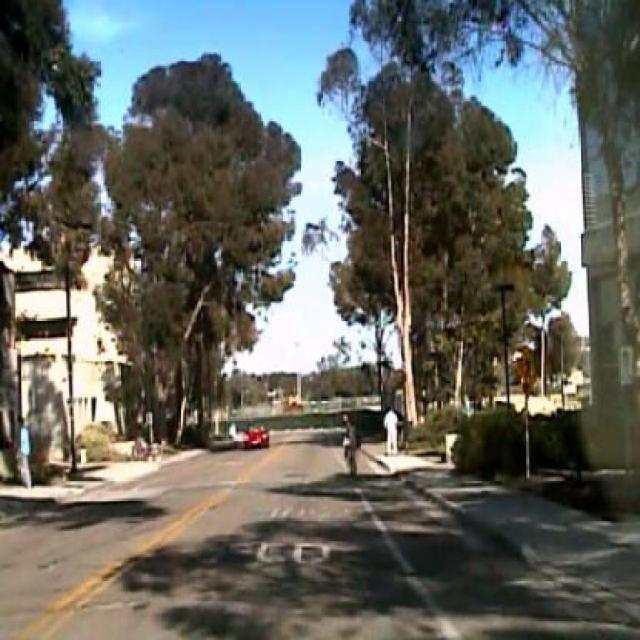pedestrianCrossing: (514, 344, 537, 392)
